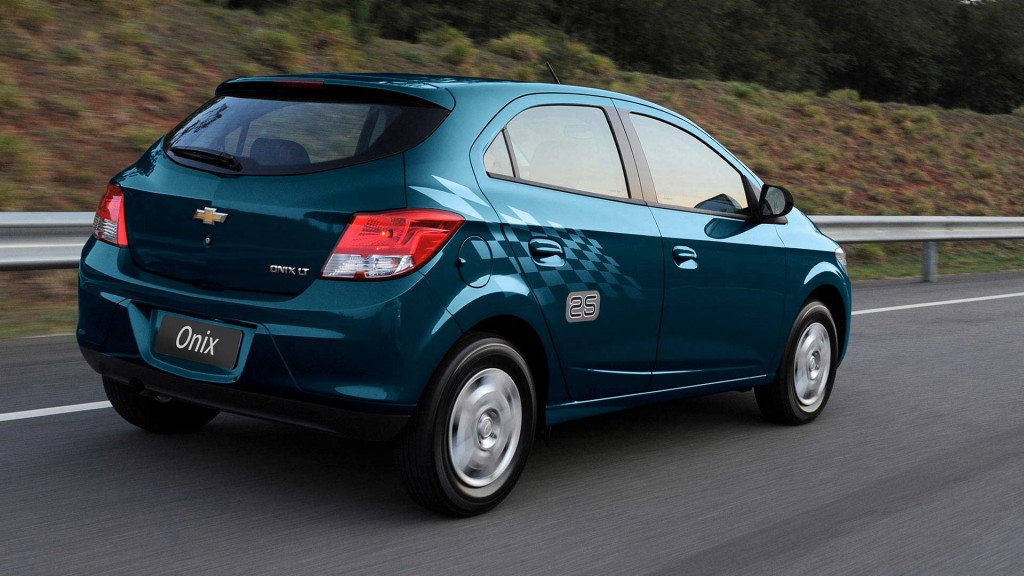Carro: (73, 66, 854, 510)
